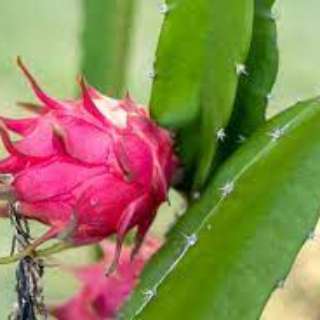thanh_long: (1, 86, 178, 253)
